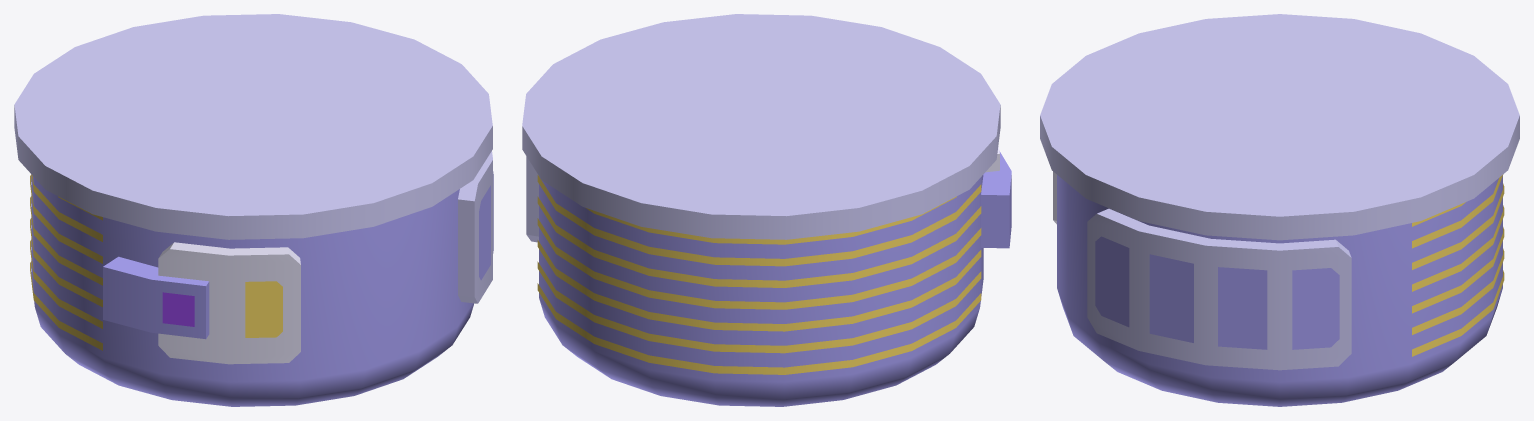
Rendered from Building_018_c.fbx.
The picture shows the model from 3 angles, left to right: view 1: azimuth 30°, elevation 25°; view 2: azimuth 150°, elevation 25°; view 3: azimuth 270°, elevation 25°; orthographic projection.
Visible parts, largest first — view 1: Building_018_c; view 2: Building_018_c; view 3: Building_018_c.
Boxes of the visible parts, left/top/right/bottom form: Building_018_c: left=14, top=14, right=493, bottom=406; Building_018_c: left=522, top=14, right=1011, bottom=406; Building_018_c: left=1040, top=14, right=1519, bottom=406.
Size of the model in its own units: 7.47 by 3.64 by 7.47.
